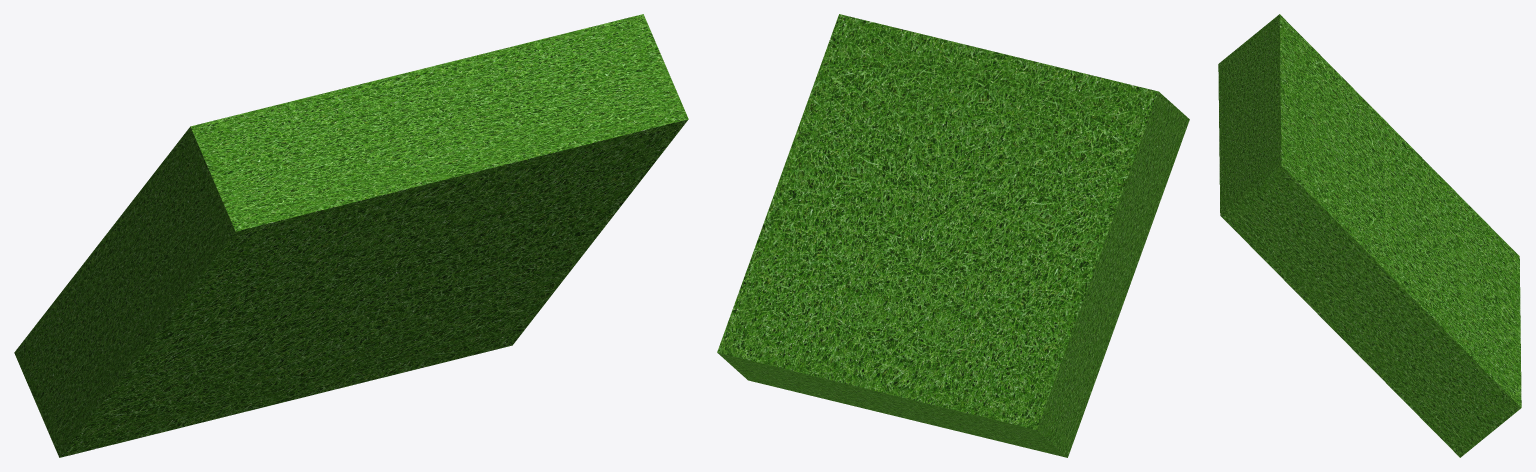
The model's file is movingGrass.fbx.
3 renders of one model, left to right at view 1: azimuth 30°, elevation 25°; view 2: azimuth 150°, elevation 25°; view 3: azimuth 270°, elevation 25°, orthographic. The views are drawn at different scales.
Parts seen in each view (by area): view 1: base_CrescentClouds; view 2: base_CrescentClouds; view 3: base_CrescentClouds.
Boxes of the visible parts, bbox=[...] form: base_CrescentClouds: bbox=[14, 14, 688, 457]; base_CrescentClouds: bbox=[717, 14, 1189, 457]; base_CrescentClouds: bbox=[1218, 14, 1521, 457].
Bounding box in the file's own units: 803 × 719 × 674.
Materials: 1 (1 with a texture image).
